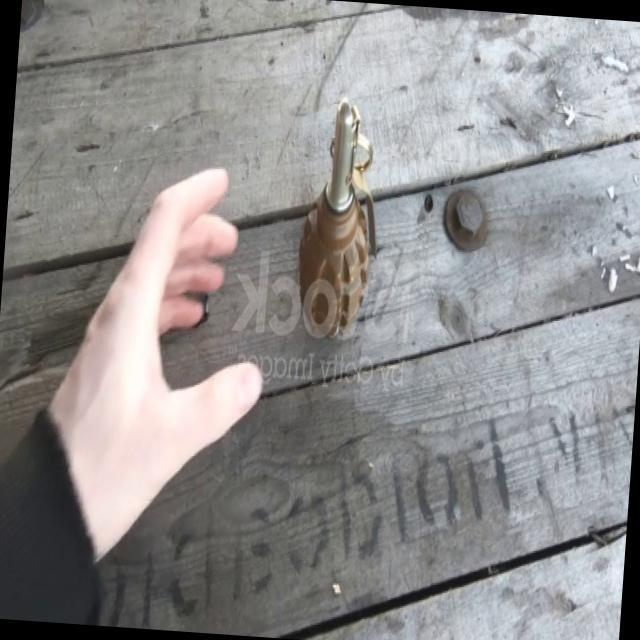grenade: (296, 97, 386, 340)
